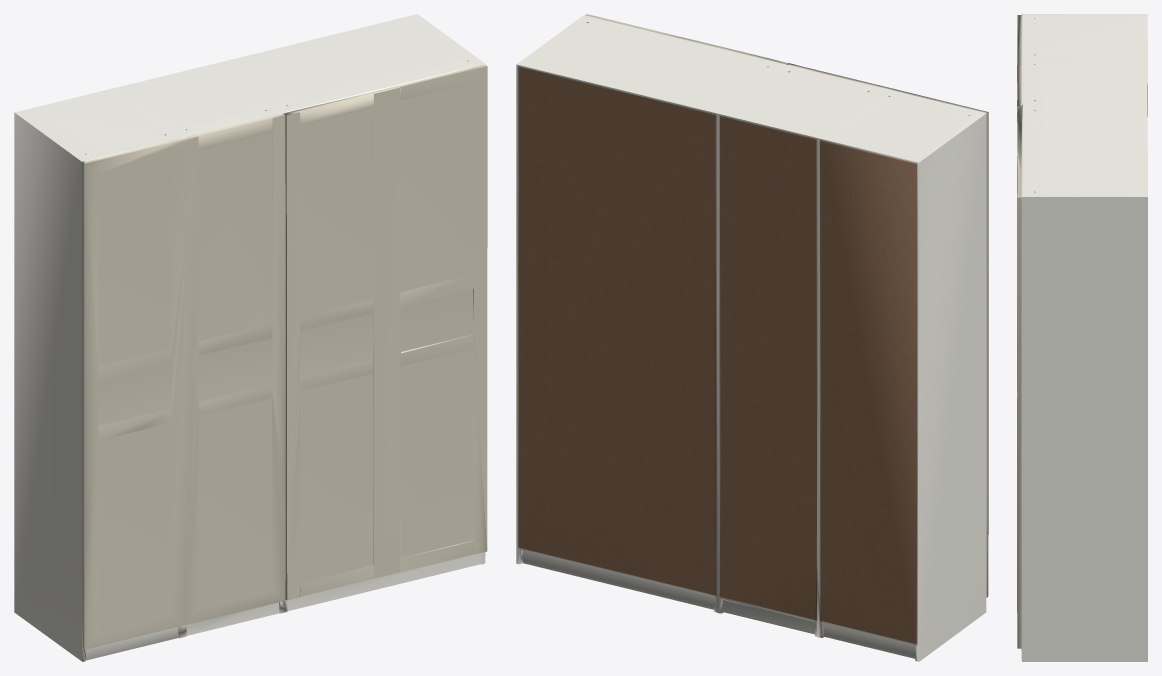
Rendered from pax_flisberget_szafa_39304128.glb.
3 views of the same model, side by side, from view 1: azimuth 30°, elevation 25°; view 2: azimuth 150°, elevation 25°; view 3: azimuth 270°, elevation 25° (orthographic). The views are drawn at different scales.
Parts seen in each view (by area): view 1: pax_flisberget_szafa_39304128; view 2: pax_flisberget_szafa_39304128; view 3: pax_flisberget_szafa_39304128.
Boxes of the visible parts, x1,y1,x2,y2 form: pax_flisberget_szafa_39304128: [14, 14, 487, 661]; pax_flisberget_szafa_39304128: [516, 14, 988, 661]; pax_flisberget_szafa_39304128: [1017, 14, 1147, 661].
Size of the model in its own units: 1.99 by 2.37 by 0.603.
1 material, 1 textured.
